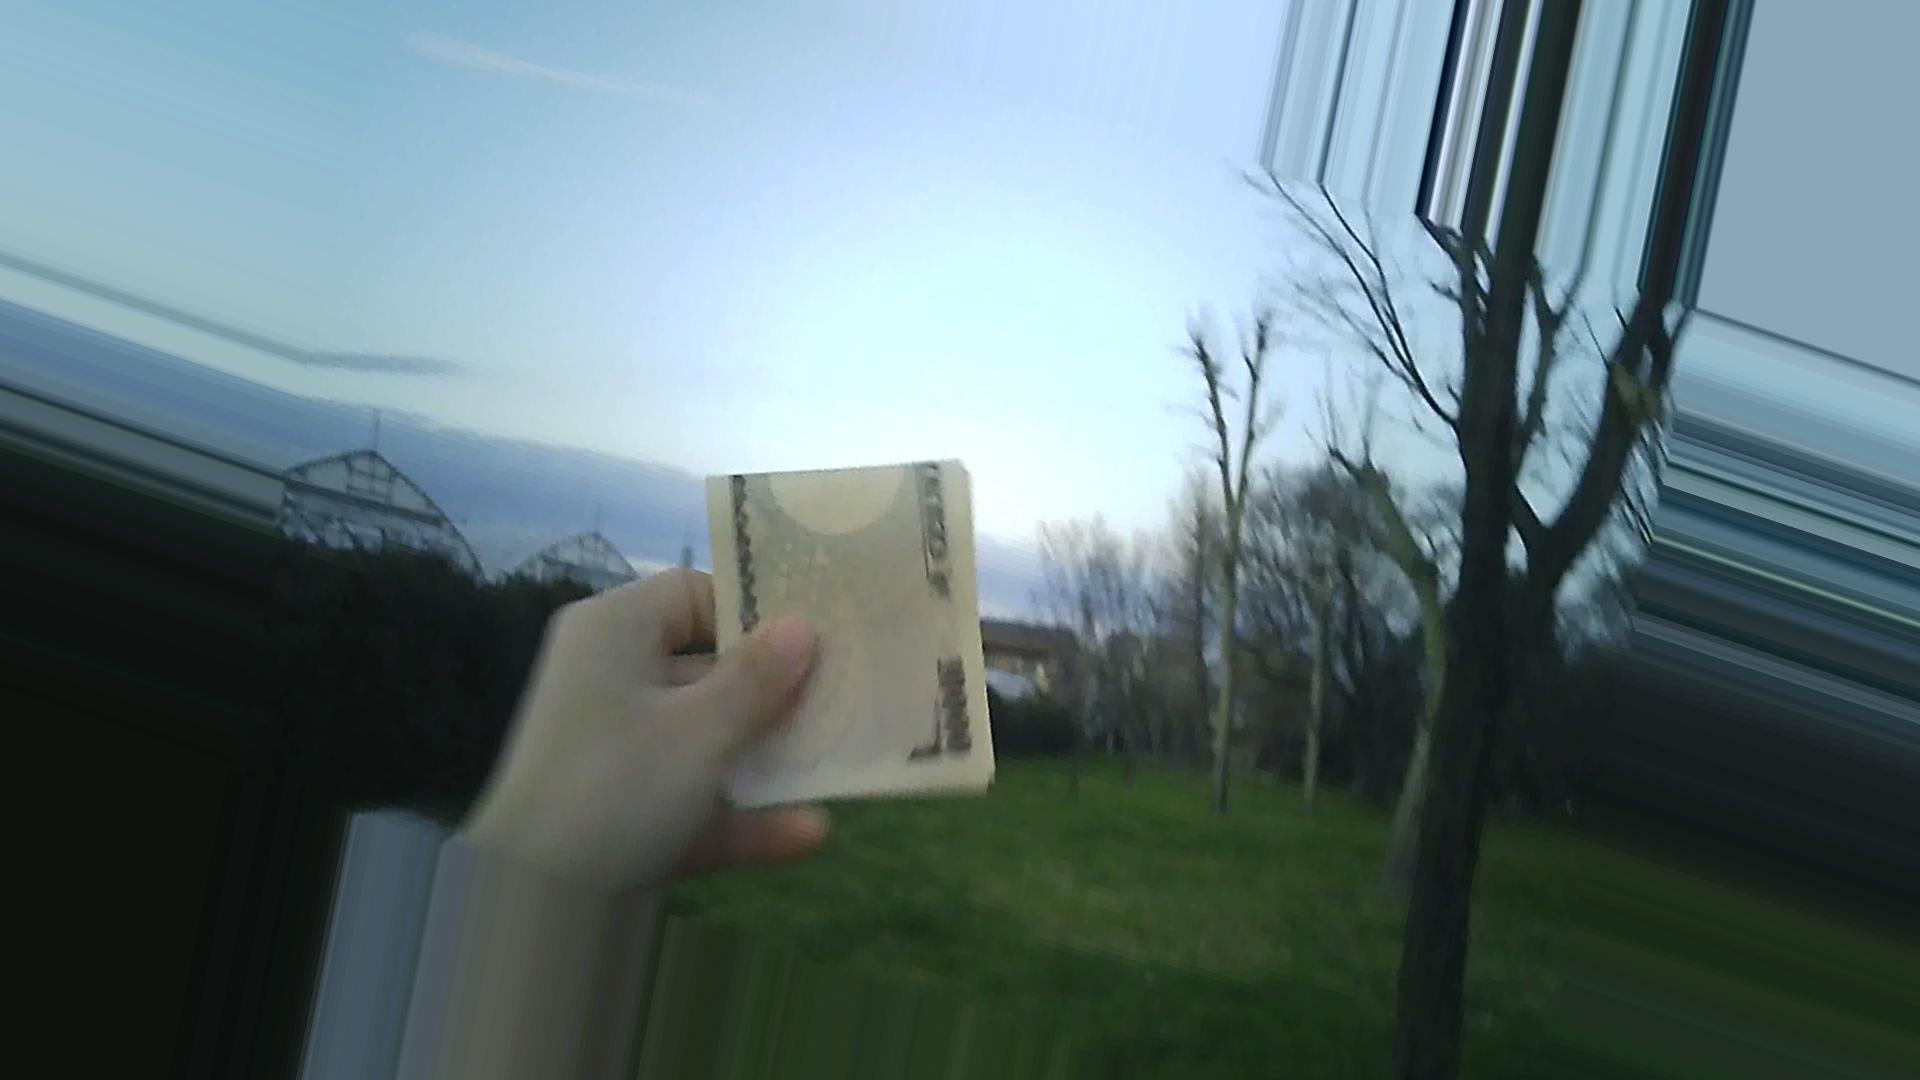10,000 Yen: (694, 455, 1021, 833)
